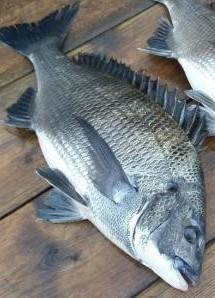fish: (0, 4, 209, 293)
